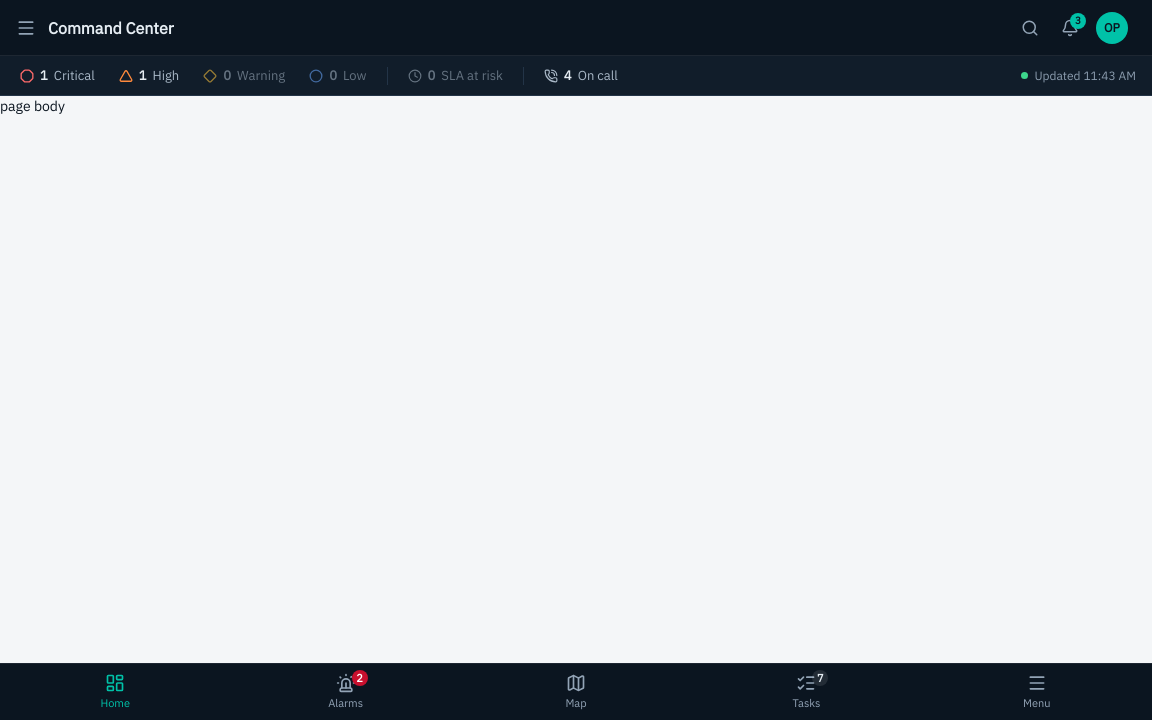
Test: AppShell › opens the command palette with Ctrl+K and navigates
This screenshot has width=1152, height=720.
Type keys "{Control>}k{/Control}"
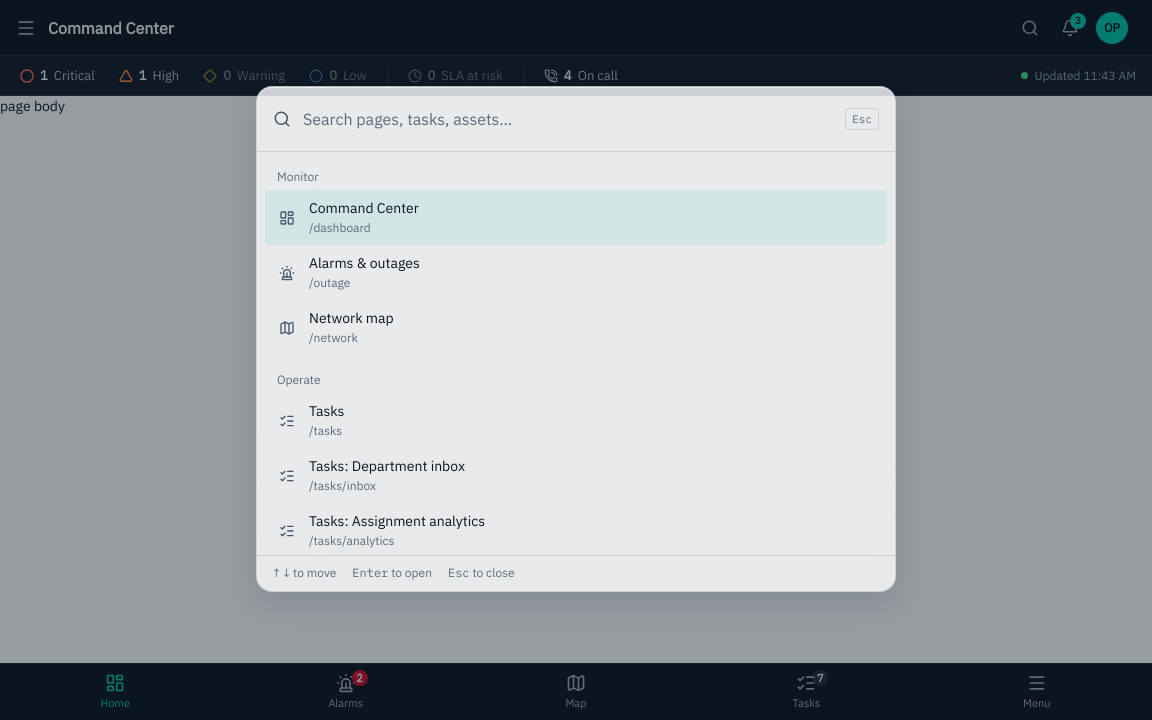
Type "fttx" into the dropdown named "Search commands". click: (568, 119)
box: [303,99,833,139]
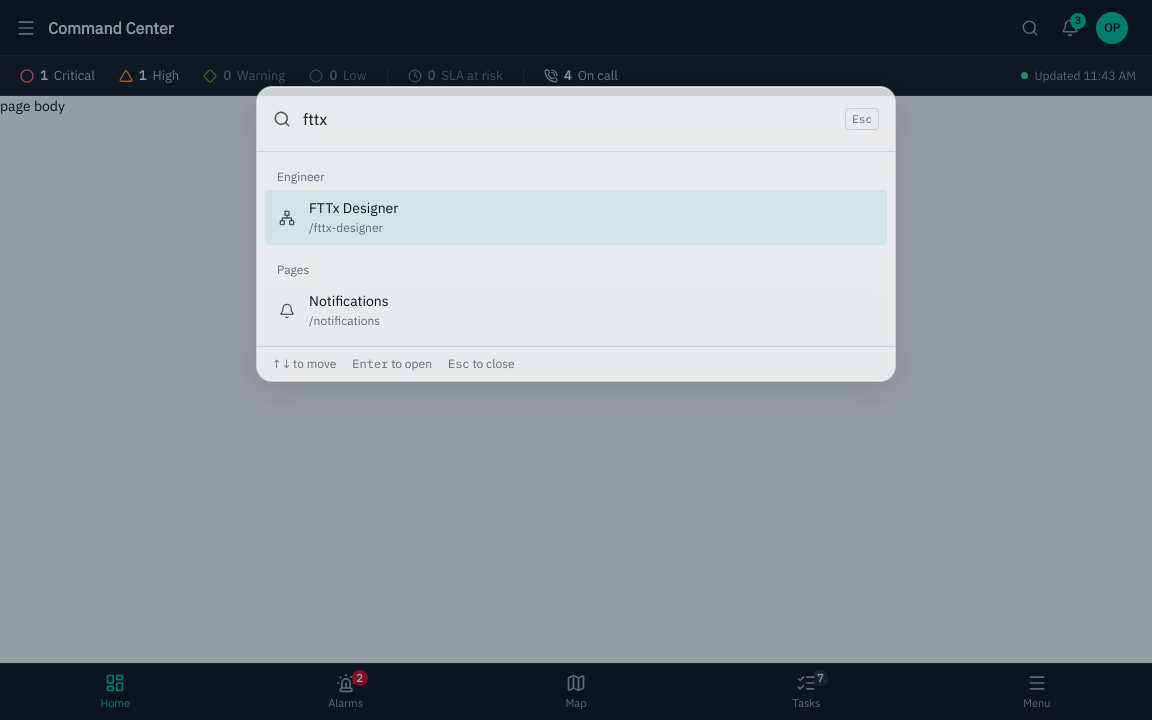
Press Enter
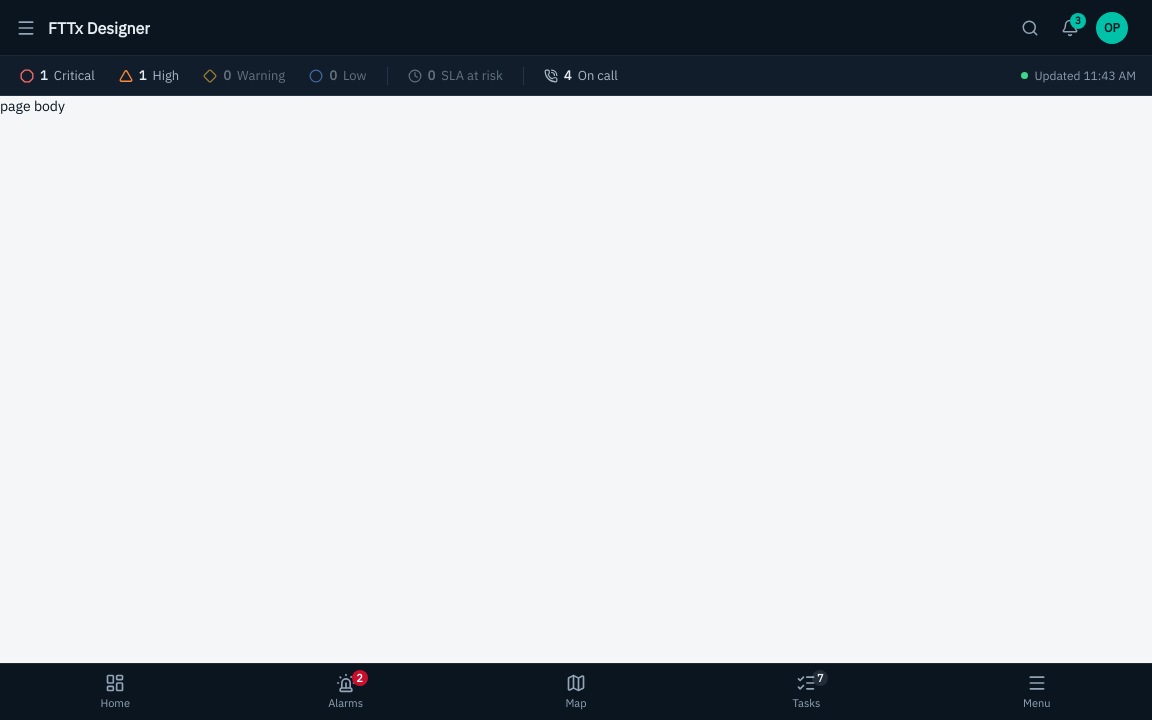
Expected: the text "FTTx Designer" is shown, [48,16,150,40]
